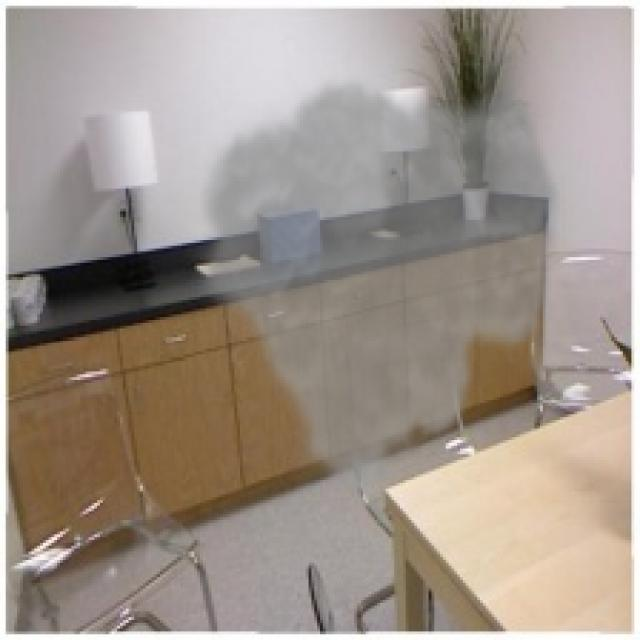Smoke: (188, 74, 566, 500)
